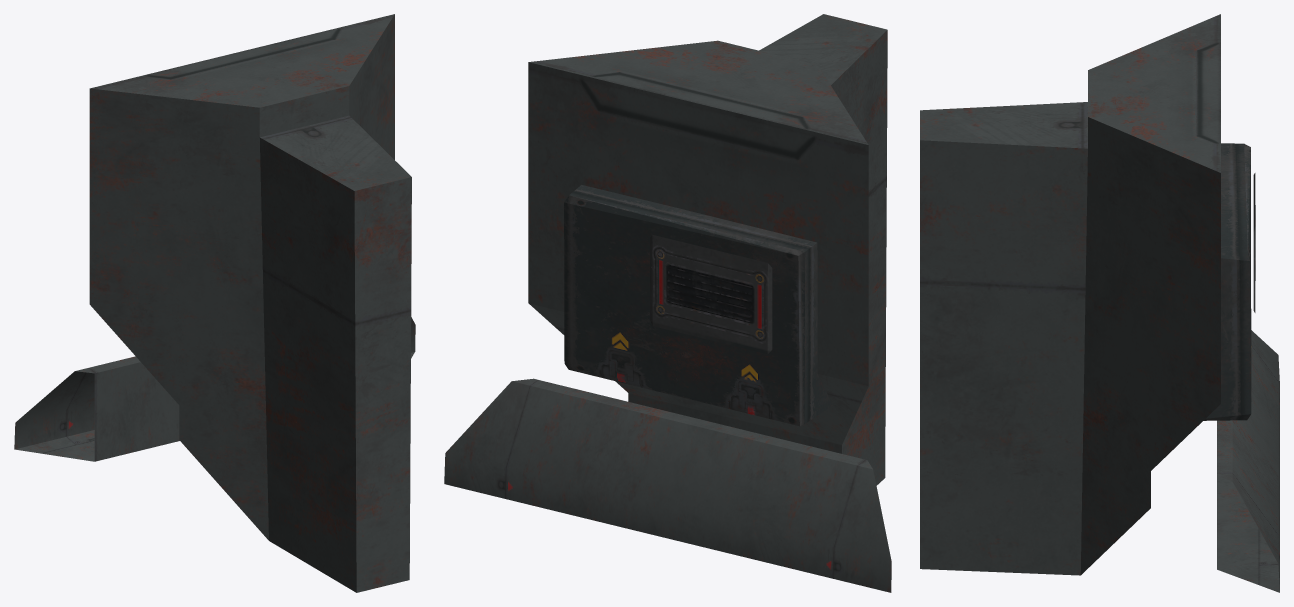
The model's file is ARC0910161.fbx.
3 renders of one model, left to right at view 1: azimuth 30°, elevation 25°; view 2: azimuth 150°, elevation 25°; view 3: azimuth 270°, elevation 25°, orthographic. The views are drawn at different scales.
Parts seen in each view (by area): view 1: smARC0910161; view 2: smARC0910161; view 3: smARC0910161.
Boxes of the visible parts, x1=… form: smARC0910161: x1=14, y1=14, x2=415, y2=592; smARC0910161: x1=444, y1=14, x2=891, y2=592; smARC0910161: x1=920, y1=14, x2=1279, y2=592.
Bounding box in the file's own units: 249 × 257 × 182.
Materials: 1 (1 with a texture image).
